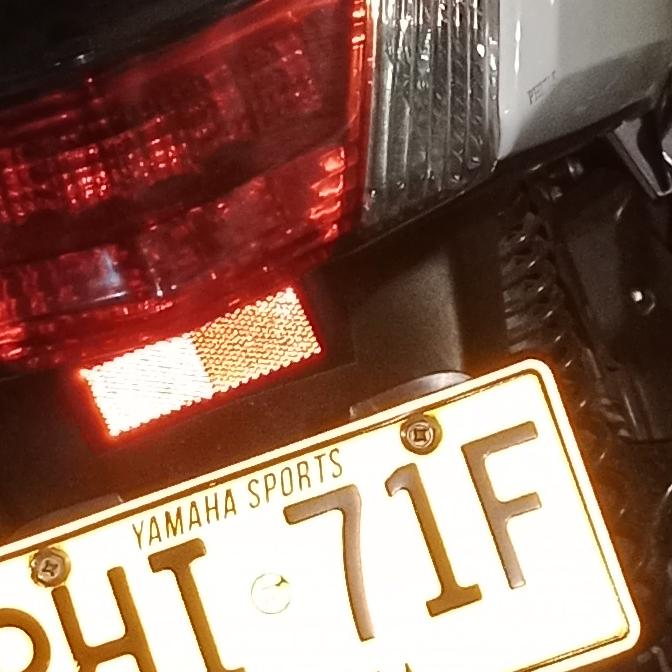plates: (0, 362, 618, 672)
